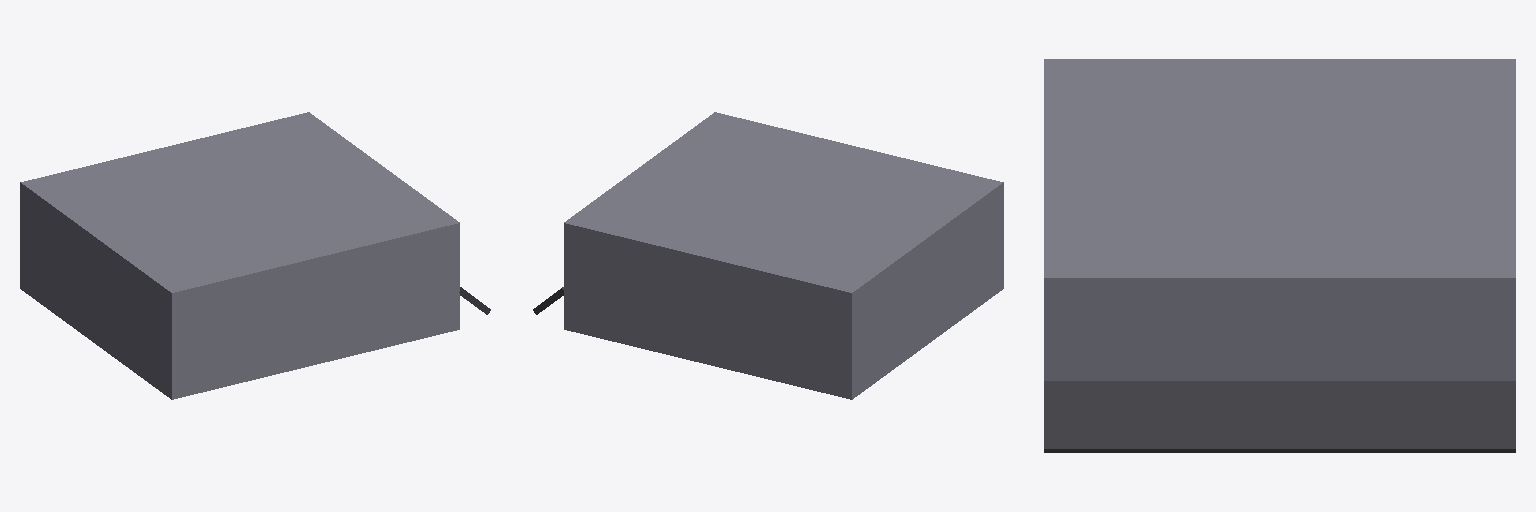
URDF robot description (novamax):
<?xml version="1.0"?>
<!--
  Novamax Professional Mini Sumo Kit (primitive URDF, generated from spec).

  Frame convention:
    base_link origin sits at the chassis-bottom plane, between the wheel
    contact points. +X is forward, +Y is left, +Z is up. Wheel cylinders
    are rotated 90 deg about X so their roll axis lies along the joint's
    rotation axis (+Y).

  Spec (lighter steel, low CoM, fast 800 RPM gearmotors):
    Chassis  : steel box, 99 x 90 x 35 mm, 0.38 kg
               COM 1.5 cm behind centre, 1.0 cm above floor
    Plow     : sharp steel wedge, 14 mm slope length, ~44 deg pitch, 0.02 kg
    Wheels   : silicone, r = 16.5 mm, w = 20 mm, 0.025 kg each
               track width 68 mm, axle 30 mm behind centre
    Total    : 0.45 kg (high momentum at 800 RPM)
-->
<robot name="novamax">

  <!-- ======================== CHASSIS ======================== -->
  <link name="base_link">
    <inertial>
      <!-- COM 15 mm behind centre, 10 mm above floor (heavy battery /
           gearbox stack low and to the rear). -->
      <origin xyz="-0.015 0.0 0.010" rpy="0 0 0"/>
      <mass value="0.38"/>
      <!-- Box principal moments at COM for 0.099 x 0.090 x 0.035, m=0.38:
           Ixx = (m/12)*(0.090^2 + 0.035^2) = 2.95e-4
           Iyy = (m/12)*(0.099^2 + 0.035^2) = 3.49e-4
           Izz = (m/12)*(0.099^2 + 0.090^2) = 5.67e-4 -->
      <inertia ixx="2.95e-4" ixy="0" ixz="0"
               iyy="3.49e-4" iyz="0"
               izz="5.67e-4"/>
    </inertial>

    <visual>
      <origin xyz="0 0 0.0175" rpy="0 0 0"/>
      <geometry>
        <box size="0.099 0.090 0.035"/>
      </geometry>
      <material name="steel">
        <color rgba="0.55 0.55 0.60 1.0"/>
      </material>
    </visual>

    <collision>
      <origin xyz="0 0 0.0175" rpy="0 0 0"/>
      <geometry>
        <box size="0.099 0.090 0.035"/>
      </geometry>
    </collision>
  </link>

  <!-- ============== FRONT CASTER (invisible slider) ========== -->
  <link name="front_caster">
    <inertial>
      <origin xyz="0 0 0" rpy="0 0 0"/>
      <mass value="0.001"/>
      <inertia ixx="1e-9" ixy="0" ixz="0"
               iyy="1e-9" iyz="0"
               izz="1e-9"/>
    </inertial>
    <collision>
      <origin xyz="0 0 0" rpy="0 0 0"/>
      <geometry>
        <sphere radius="0.003"/>
      </geometry>
    </collision>
    <contact>
      <lateral_friction value="0.0"/>
      <rolling_friction value="0.0"/>
      <spinning_friction value="0.0"/>
    </contact>
  </link>

  <joint name="front_caster_joint" type="fixed">
    <parent link="base_link"/>
    <child  link="front_caster"/>
    <origin xyz="0.040 0.0 0.003" rpy="0 0 0"/>
  </joint>

  <!-- ======================= PLOW WEDGE ====================== -->
  <!-- Slab geometry (in body frame):
         trailing edge (top) : x = +0.0495, z = 0.0100
         leading edge (tip)  : x = +0.0595, z = 0.0004
         slope length        : 0.01386
         pitch (about Y)     : atan2(0.0096, 0.010) = 0.764 rad (~44 deg) -->
  <link name="plow">
    <inertial>
      <origin xyz="0 0 0" rpy="0 0 0"/>
      <mass value="0.02"/>
      <!-- Slab inertia for box 0.01386 x 0.090 x 0.002, m=0.02.
           Iyy bumped from computed 3.34e-7 to 1e-6 to give margin under
           PyBullet's strict triangle inequality (Ixx + Iyy >= Izz). -->
      <inertia ixx="1.351e-5" ixy="0" ixz="0"
               iyy="1e-6"     iyz="0"
               izz="1.383e-5"/>
    </inertial>

    <visual>
      <origin xyz="0 0 0" rpy="0 0 0"/>
      <geometry>
        <box size="0.01386 0.090 0.002"/>
      </geometry>
      <material name="dark_steel">
        <color rgba="0.30 0.30 0.32 1.0"/>
      </material>
    </visual>

    <collision>
      <origin xyz="0 0 0" rpy="0 0 0"/>
      <geometry>
        <box size="0.01386 0.090 0.002"/>
      </geometry>
    </collision>

    <contact>
      <!-- Run-7 fix: bumped 0.3 -> 0.7 to match robot.urdf wedge.
           Symmetric so contests are fair. See robot.urdf wedge contact
           block for full rationale. -->
      <lateral_friction value="0.7"/>
    </contact>
  </link>

  <joint name="plow_joint" type="fixed">
    <parent link="base_link"/>
    <child  link="plow"/>
    <!-- Slab centred at the midpoint of trailing & leading edges, rotated
         so its long axis runs down-slope. -->
    <!-- Run-7: plow tip raised from z=-0.4mm (clipping through floor)
         to z=+2.2mm above floor. Combined with the agent's wedge tip
         at z=+0.4mm in robot.urdf, this gives the agent a 1.8mm
         lower-wedge advantage in head-on collisions, modelling
         "purpose-built wedge vs kit-bot plow" asymmetry. -->
    <origin xyz="0.0545 0.0 0.0080" rpy="0 0.764 0"/>
  </joint>

  <!-- ======================= LEFT WHEEL ====================== -->
  <link name="left_wheel">
    <inertial>
      <origin xyz="0 0 0" rpy="0 0 0"/>
      <mass value="0.025"/>
      <!-- Cylinder, axis along link +Y after the 90 deg roll:
           Iyy (rolling axis) = 0.5*m*r^2                  = 3.40e-6
           Ixx = Izz          = (m/12)*(3*r^2 + h^2)       = 2.535e-6 -->
      <inertia ixx="2.535e-6" ixy="0" ixz="0"
               iyy="3.40e-6"  iyz="0"
               izz="2.535e-6"/>
    </inertial>

    <visual>
      <origin xyz="0 0 0" rpy="1.5708 0 0"/>
      <geometry>
        <cylinder radius="0.0165" length="0.020"/>
      </geometry>
      <material name="silicone">
        <color rgba="0.10 0.10 0.10 1.0"/>
      </material>
    </visual>

    <collision>
      <origin xyz="0 0 0" rpy="1.5708 0 0"/>
      <geometry>
        <cylinder radius="0.0165" length="0.020"/>
      </geometry>
    </collision>

    <contact>
      <lateral_friction value="1.4"/>
    </contact>
  </link>

  <joint name="left_wheel_joint" type="continuous">
    <parent link="base_link"/>
    <child  link="left_wheel"/>
    <!-- 30 mm behind centre, +34 mm to the left, axle 16.5 mm above floor. -->
    <origin xyz="-0.030 0.034 0.0165" rpy="0 0 0"/>
    <axis xyz="0 1 0"/>
  </joint>

  <!-- ====================== RIGHT WHEEL ====================== -->
  <link name="right_wheel">
    <inertial>
      <origin xyz="0 0 0" rpy="0 0 0"/>
      <mass value="0.025"/>
      <inertia ixx="2.535e-6" ixy="0" ixz="0"
               iyy="3.40e-6"  iyz="0"
               izz="2.535e-6"/>
    </inertial>

    <visual>
      <origin xyz="0 0 0" rpy="1.5708 0 0"/>
      <geometry>
        <cylinder radius="0.0165" length="0.020"/>
      </geometry>
      <material name="silicone"/>
    </visual>

    <collision>
      <origin xyz="0 0 0" rpy="1.5708 0 0"/>
      <geometry>
        <cylinder radius="0.0165" length="0.020"/>
      </geometry>
    </collision>

    <contact>
      <lateral_friction value="1.4"/>
    </contact>
  </link>

  <joint name="right_wheel_joint" type="continuous">
    <parent link="base_link"/>
    <child  link="right_wheel"/>
    <origin xyz="-0.030 -0.034 0.0165" rpy="0 0 0"/>
    <axis xyz="0 1 0"/>
  </joint>

</robot>

--- Render facts (derived) ---
The picture shows the robot from 3 angles, left to right: view 1: azimuth 30°, elevation 25°; view 2: azimuth 150°, elevation 25°; view 3: azimuth 270°, elevation 25°; orthographic projection.
Model novamax with 5 links and 4 joints (2 continuous, 2 fixed), rooted at base_link, posed all joints at 0.
Links seen in each view (by area): view 1: base_link; view 2: base_link; view 3: base_link, plow.
Link boxes in pixels (bbox=[...]): base_link: bbox=[20, 112, 459, 399]; base_link: bbox=[564, 112, 1003, 399]; base_link: bbox=[1044, 59, 1515, 380]; plow: bbox=[1044, 381, 1515, 452].
Bounding box of the posed robot: 0.1097 × 0.09 × 0.035 m (x, y, z).
Geometry: primitives only (box / cylinder / sphere), no mesh files.
